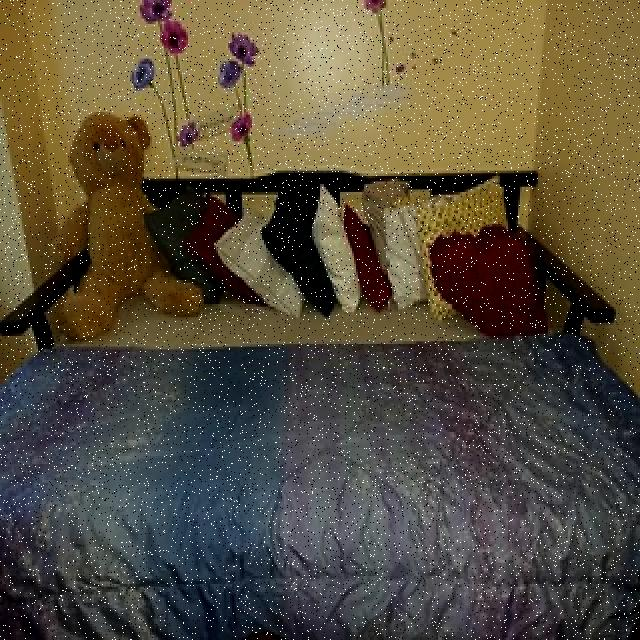bed: (9, 197, 593, 630)
